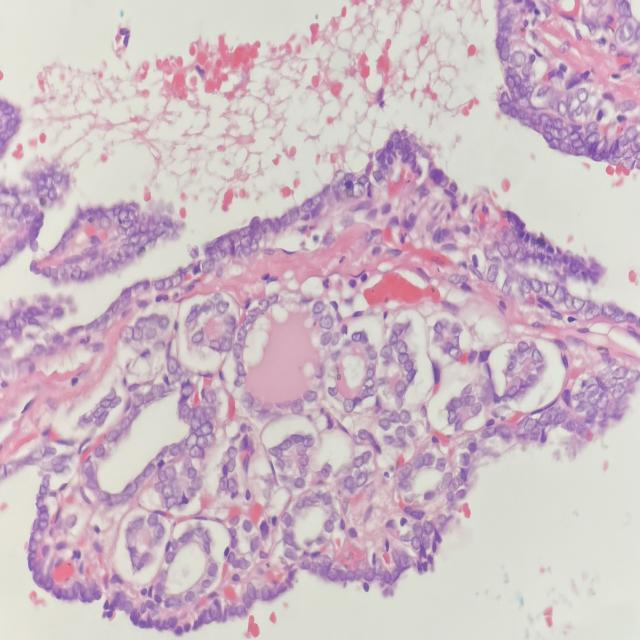TC: (351, 163, 369, 213), (578, 374, 603, 405), (318, 513, 343, 541), (482, 258, 503, 291), (352, 468, 373, 501), (519, 410, 540, 443), (571, 284, 589, 321), (391, 419, 413, 449), (162, 348, 182, 380), (200, 556, 224, 582), (513, 270, 533, 301), (186, 328, 208, 355), (223, 437, 245, 464), (307, 291, 329, 317), (214, 289, 232, 319), (95, 212, 117, 236), (377, 335, 395, 364), (424, 443, 439, 477), (289, 396, 307, 424), (115, 322, 134, 348), (159, 466, 183, 484), (144, 506, 162, 529), (461, 388, 477, 412), (181, 430, 199, 451), (339, 397, 357, 417)
